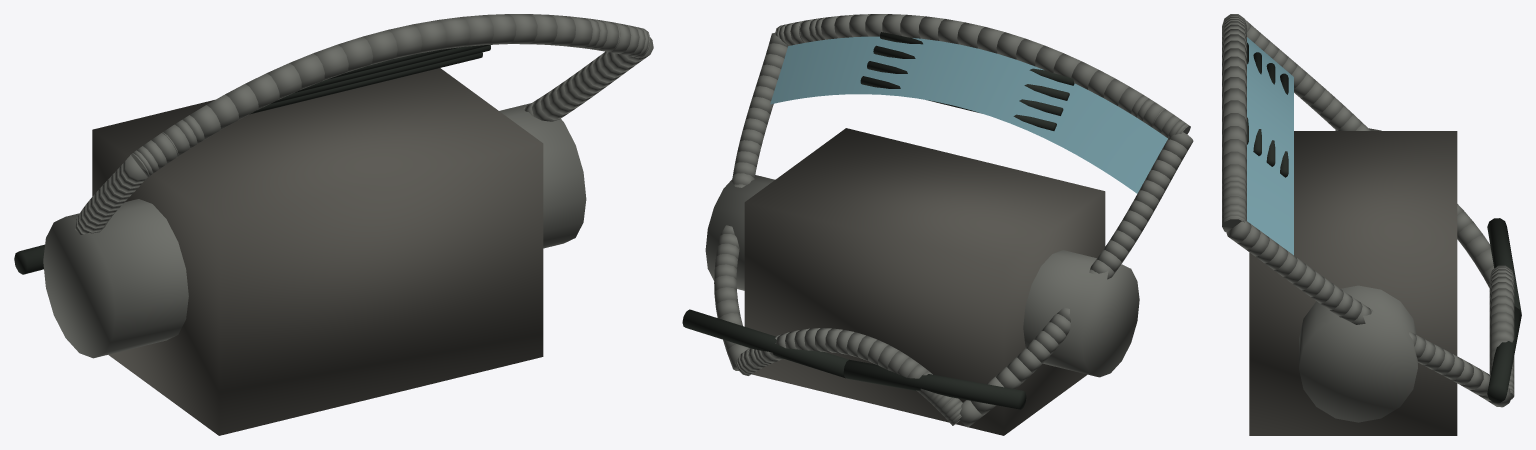
File: PART_009_RearEngineOpening.glb
3 renders of one model, left to right at view 1: azimuth 30°, elevation 25°; view 2: azimuth 150°, elevation 25°; view 3: azimuth 270°, elevation 25°, orthographic. The views are drawn at different scales.
Visible parts, largest first — view 1: ENGINE_PlaceholderBlock, ENGINE_PlaceholderHead_L, BODY_EngineOpeningUpper, ENGINE_PlaceholderHead_R, BODY_EngineOpeningRail_R, BODY_EngineOpeningRail_L, TRIM_DeckVent_3, TRIM_DeckVent_2, TRIM_DeckVent_1, TRIM_RearLowerEdge; view 2: ENGINE_PlaceholderBlock, BODY_BajaPartialDeckLid, ENGINE_PlaceholderHead_L, BODY_EngineOpeningUpper, BODY_EngineOpeningRail_L, TRIM_RearLowerEdge, BODY_EngineOpeningRail_R, BODY_EngineOpeningLower, ENGINE_PlaceholderHead_R, TRIM_DeckVent_3, TRIM_DeckVent_1, TRIM_DeckVent_2 (+1 smaller); view 3: ENGINE_PlaceholderBlock, ENGINE_PlaceholderHead_R, BODY_BajaPartialDeckLid, BODY_EngineOpeningRail_R, BODY_EngineOpeningUpper, BODY_EngineOpeningRail_L, TRIM_RearLowerEdge, BODY_EngineOpeningLower, TRIM_DeckVent_2, TRIM_DeckVent_3, TRIM_DeckVent_1.
Part boxes in pixels (x1=…): ENGINE_PlaceholderBlock: x1=92, y1=68, x2=543, y2=435; ENGINE_PlaceholderHead_L: x1=43, y1=199, x2=188, y2=358; BODY_EngineOpeningUpper: x1=130, y1=14, x2=650, y2=177; ENGINE_PlaceholderHead_R: x1=499, y1=103, x2=586, y2=248; BODY_EngineOpeningRail_R: x1=523, y1=37, x2=653, y2=121; BODY_EngineOpeningRail_L: x1=75, y1=155, x2=147, y2=234; TRIM_DeckVent_3: x1=249, y1=52, x2=482, y2=114; TRIM_DeckVent_2: x1=269, y1=45, x2=490, y2=104; TRIM_DeckVent_1: x1=293, y1=44, x2=492, y2=93; TRIM_RearLowerEdge: x1=14, y1=244, x2=44, y2=274; ENGINE_PlaceholderBlock: x1=744, y1=128, x2=1105, y2=435; BODY_BajaPartialDeckLid: x1=770, y1=36, x2=1167, y2=193; ENGINE_PlaceholderHead_L: x1=1023, y1=250, x2=1139, y2=377; BODY_EngineOpeningUpper: x1=775, y1=14, x2=1190, y2=138; BODY_EngineOpeningRail_L: x1=959, y1=132, x2=1193, y2=427; TRIM_RearLowerEdge: x1=682, y1=309, x2=1026, y2=409; BODY_EngineOpeningRail_R: x1=714, y1=33, x2=787, y2=370; BODY_EngineOpeningLower: x1=735, y1=328, x2=962, y2=425; ENGINE_PlaceholderHead_R: x1=705, y1=175, x2=774, y2=290; TRIM_DeckVent_3: x1=860, y1=76, x2=1056, y2=130; TRIM_DeckVent_1: x1=873, y1=45, x2=1069, y2=100; TRIM_DeckVent_2: x1=867, y1=61, x2=1063, y2=115; ENGINE_PlaceholderBlock: x1=1249, y1=131, x2=1457, y2=435; ENGINE_PlaceholderHead_R: x1=1299, y1=285, x2=1417, y2=422; BODY_BajaPartialDeckLid: x1=1247, y1=37, x2=1293, y2=255; BODY_EngineOpeningRail_R: x1=1226, y1=221, x2=1512, y2=407; BODY_EngineOpeningUpper: x1=1222, y1=14, x2=1246, y2=232; BODY_EngineOpeningRail_L: x1=1245, y1=19, x2=1494, y2=287; TRIM_RearLowerEdge: x1=1487, y1=218, x2=1521, y2=402; BODY_EngineOpeningLower: x1=1489, y1=265, x2=1514, y2=399; TRIM_DeckVent_2: x1=1266, y1=63, x2=1275, y2=166; TRIM_DeckVent_3: x1=1280, y1=73, x2=1288, y2=177; TRIM_DeckVent_1: x1=1253, y1=52, x2=1261, y2=155.
Size of the model in its own units: 1.01 by 0.6788 by 0.6049.
